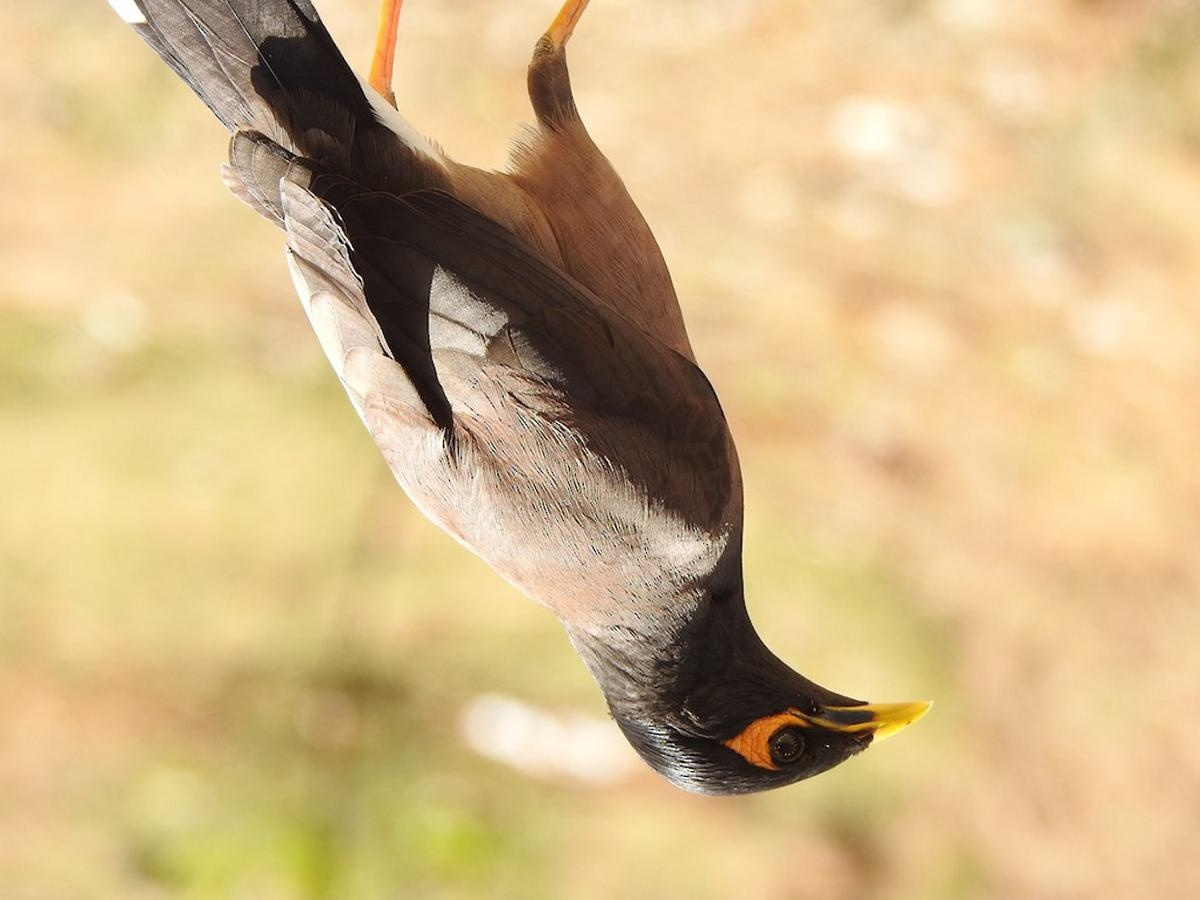myna: (171, 46, 946, 837)
